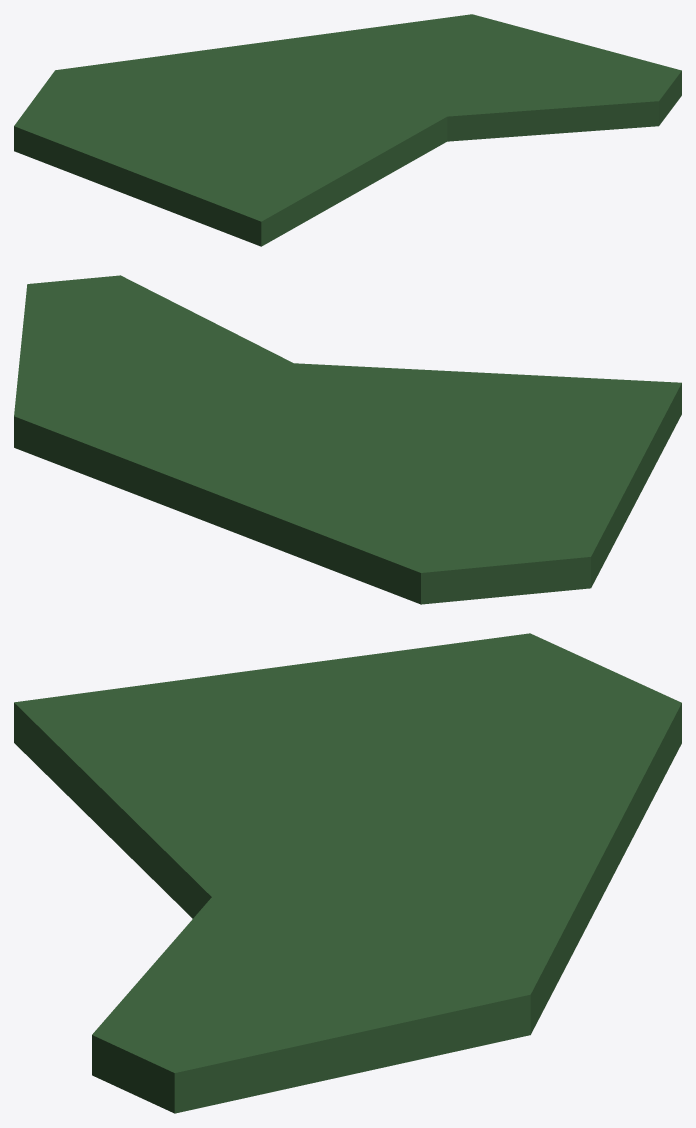
The model's file is x_proval_00_47_1_rmstrd.fbx.
The picture shows the model from 3 angles, top to bottom: view 1: azimuth 30°, elevation 25°; view 2: azimuth 150°, elevation 25°; view 3: azimuth 270°, elevation 25°; orthographic projection. The views are drawn at different scales.
Visible parts, largest first — view 1: x_proval_00_47_1_rmstrd1; view 2: x_proval_00_47_1_rmstrd1; view 3: x_proval_00_47_1_rmstrd1.
Boxes of the visible parts, x1,y1,x2,y2 form: x_proval_00_47_1_rmstrd1: (14,14,681,246); x_proval_00_47_1_rmstrd1: (14,275,681,604); x_proval_00_47_1_rmstrd1: (14,633,681,1113).
Bounding box in the file's own units: 4.66 × 0.2 × 2.99.
